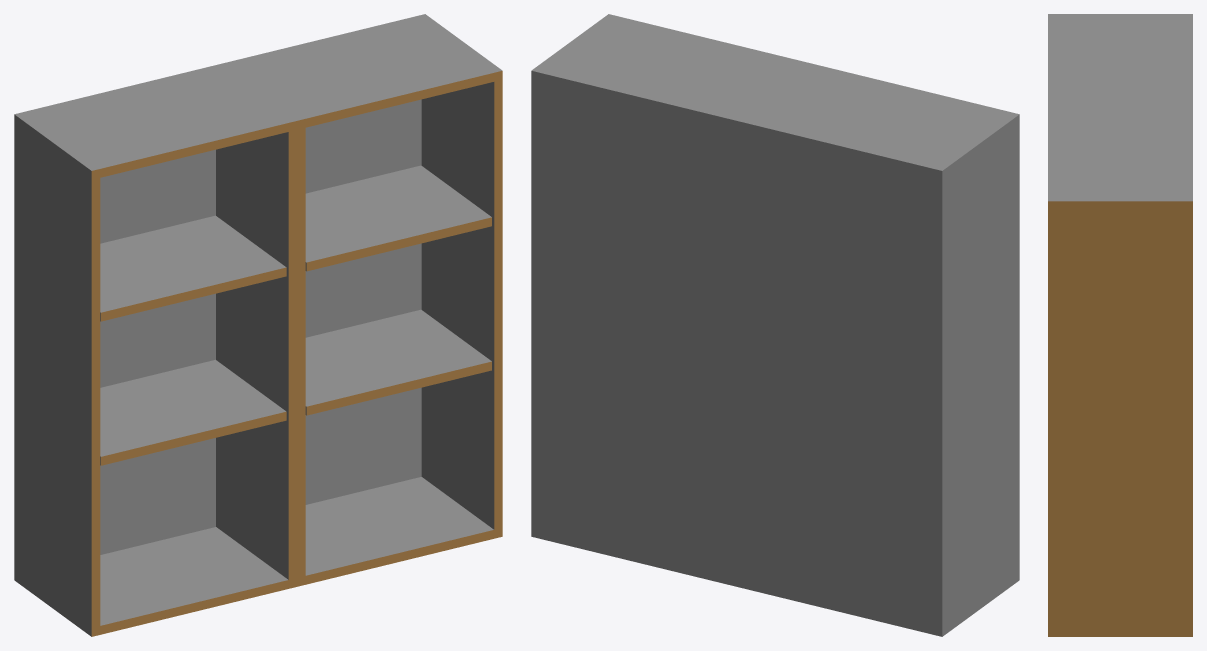
File: Shelfs.FBX
The picture shows the model from 3 angles, left to right: view 1: azimuth 30°, elevation 25°; view 2: azimuth 150°, elevation 25°; view 3: azimuth 270°, elevation 25°; orthographic projection. The views are drawn at different scales.
Visible parts, largest first — view 1: hicab_18_h39, hicab_18_h40; view 2: hicab_18_h39, hicab_18_h40; view 3: hicab_18_h40, hicab_18_h39.
Part boxes in pixels (x1,y1,x2,y2): hicab_18_h39: [14, 64, 297, 636]; hicab_18_h40: [220, 14, 502, 586]; hicab_18_h39: [736, 64, 1019, 636]; hicab_18_h40: [531, 14, 813, 586]; hicab_18_h40: [1048, 107, 1192, 636]; hicab_18_h39: [1048, 14, 1192, 107].
Bounding box in the file's own units: 36 × 39 × 11.75.
